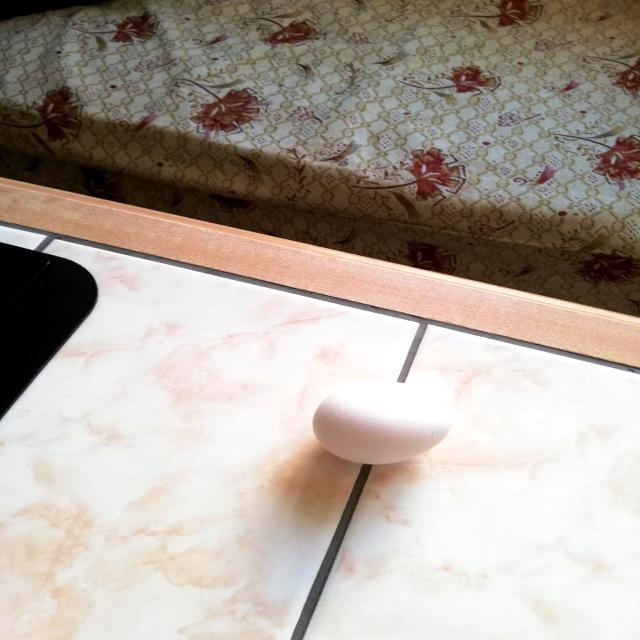egg: (306, 378, 458, 468)
